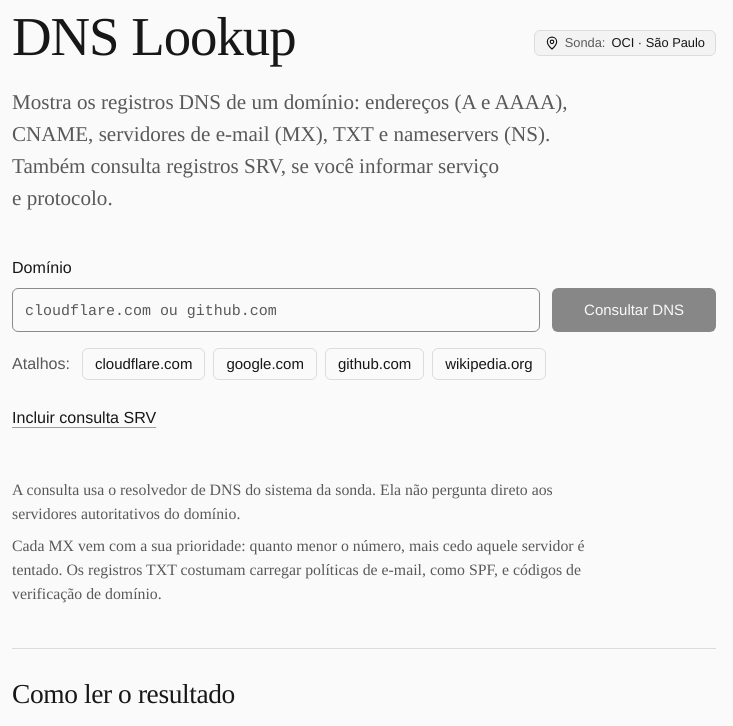
Test case: DnsLookup (comportamento) › o veredicto vem primeiro: resolvendo, com o resumo do que existe
Type "example.com" into the field at point(276, 310), box [12, 288, 540, 332]
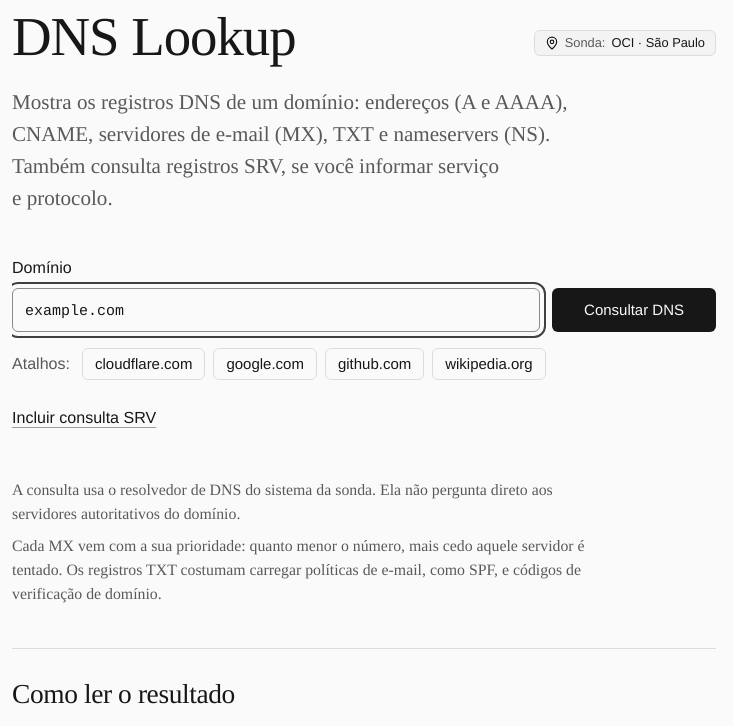
Click the button "Consultar DNS" at point(634, 310), box [552, 288, 716, 332]
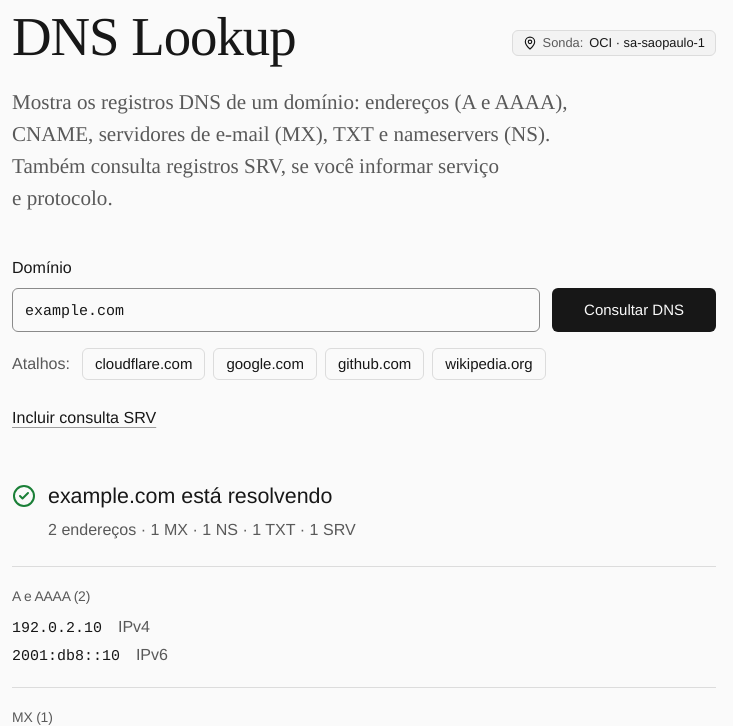
Result: the heading "example.com está resolvendo" is shown at [48, 480, 332, 512]
Result: the text "2 endereços · 1 MX · 1 NS · 1 TXT · 1 SRV" is shown at [48, 520, 356, 539]
